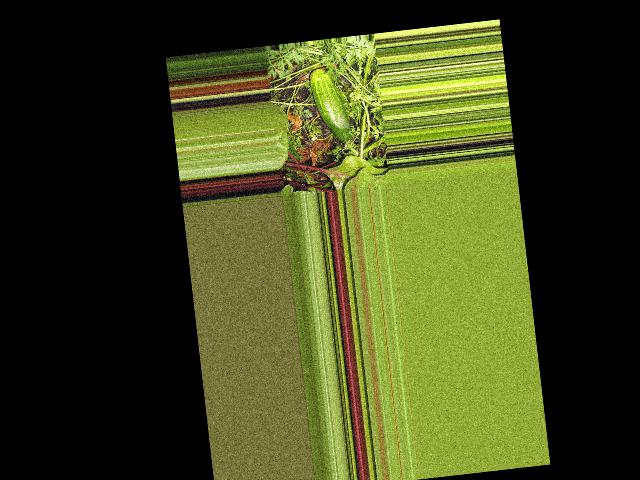cucumber: (308, 67, 354, 146)
